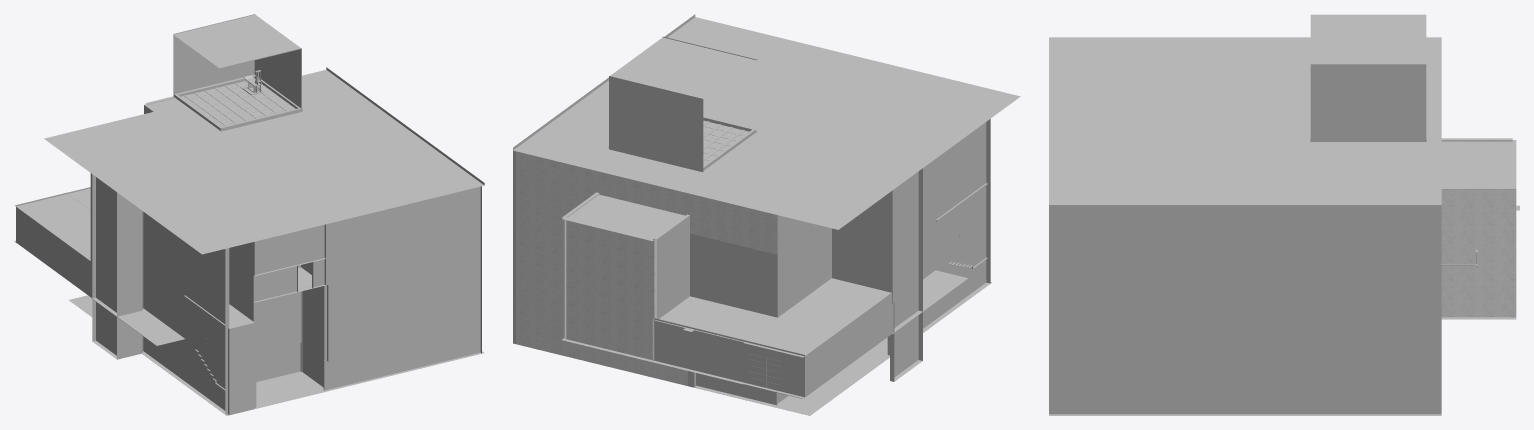
File: chamber_106.fbx
3 renders of one model, left to right at view 1: azimuth 30°, elevation 25°; view 2: azimuth 150°, elevation 25°; view 3: azimuth 270°, elevation 25°, orthographic. The views are drawn at different scales.
Visible parts, largest first — view 1: room106_opt; view 2: room106_opt; view 3: room106_opt.
Boxes of the visible parts, box(x1,y1,x2,y2) form: room106_opt: box(14, 14, 484, 415); room106_opt: box(513, 14, 1020, 415); room106_opt: box(1049, 14, 1519, 415).
Size of the model in its own units: 26700 by 22380 by 31080.
